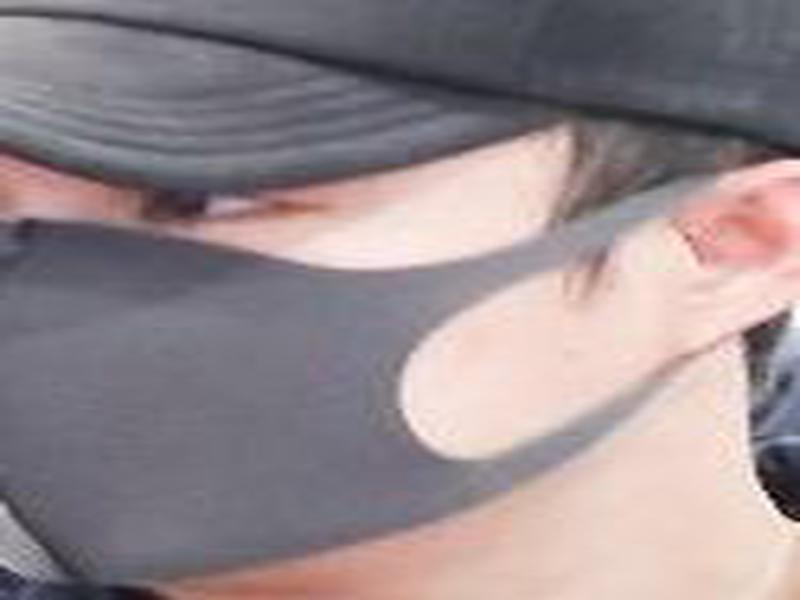with_mask: (1, 95, 797, 595)
